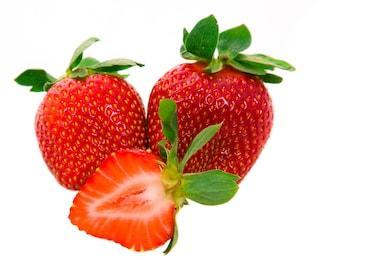Fresa: (144, 53, 279, 200), (29, 64, 153, 195)
